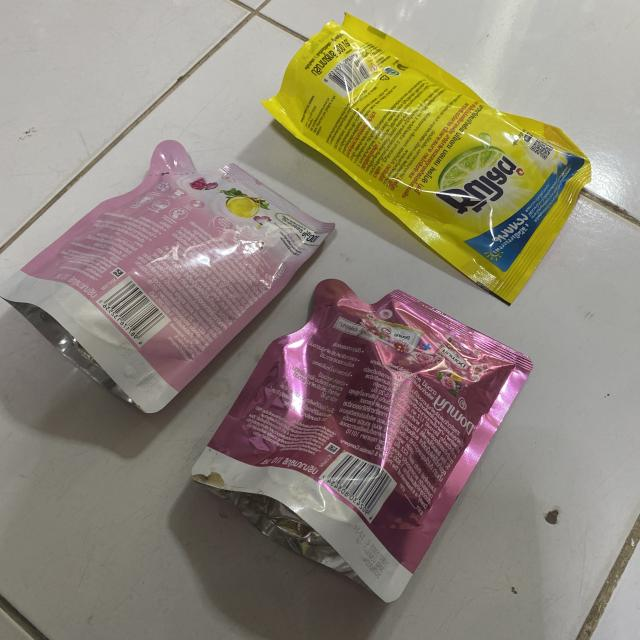plastik: (192, 279, 532, 602), (263, 14, 592, 303), (0, 140, 335, 413)
